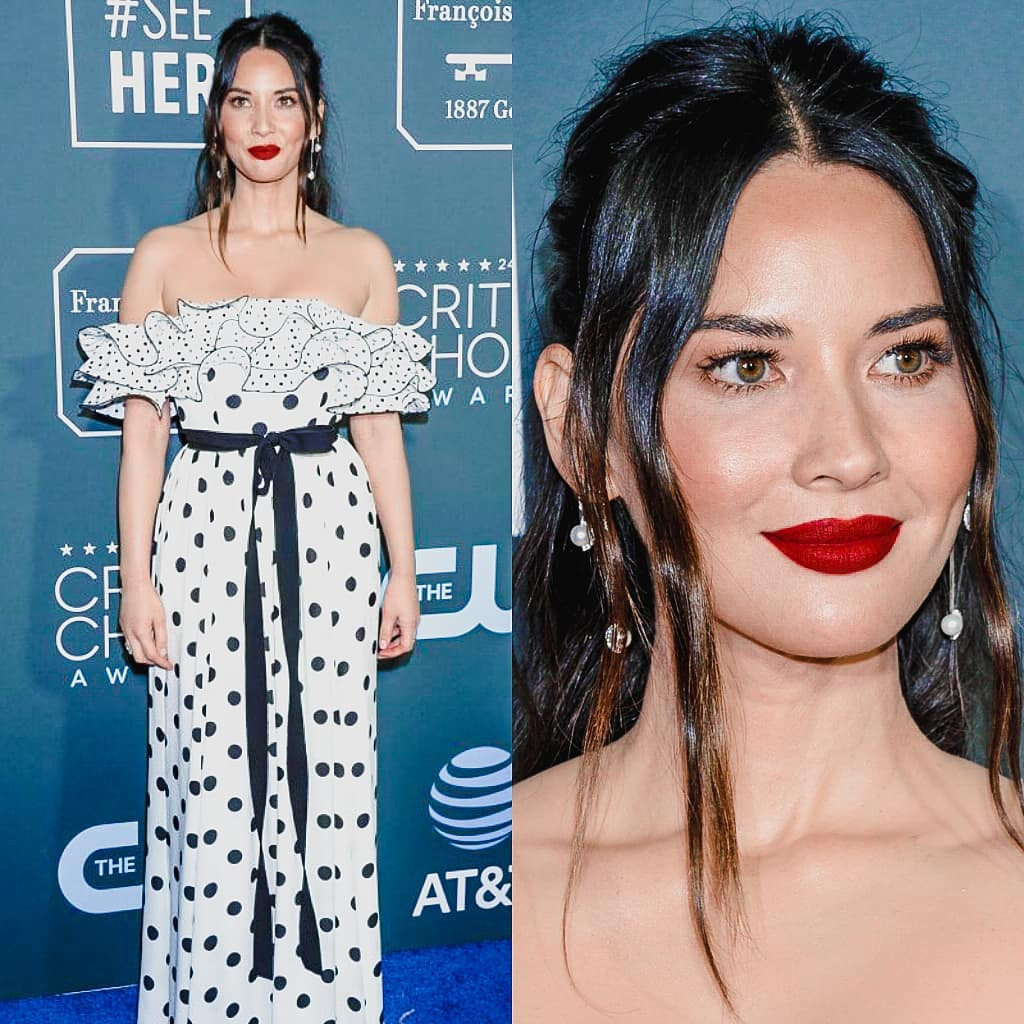hand: (121, 579, 165, 660)
